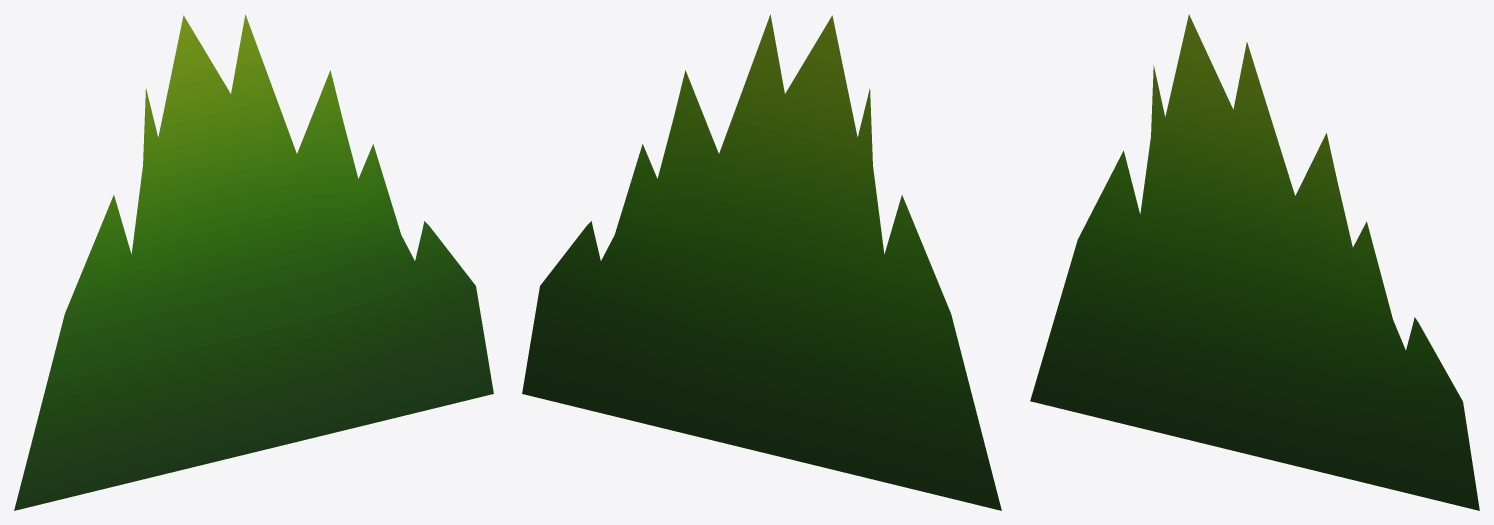
The model's file is mato1.fbx.
3 renders of one model, left to right at view 1: azimuth 30°, elevation 25°; view 2: azimuth 150°, elevation 25°; view 3: azimuth 330°, elevation 25°, orthographic. The views are drawn at different scales.
Visible parts, largest first — view 1: Grama1; view 2: Grama1; view 3: Grama1.
Part boxes in pixels (left/top/right/bottom): Grama1: left=14, top=14, right=493, bottom=510; Grama1: left=522, top=14, right=1001, bottom=510; Grama1: left=1030, top=14, right=1479, bottom=510.
Bounding box in the file's own units: 173 × 157 × 6.84e-06.
